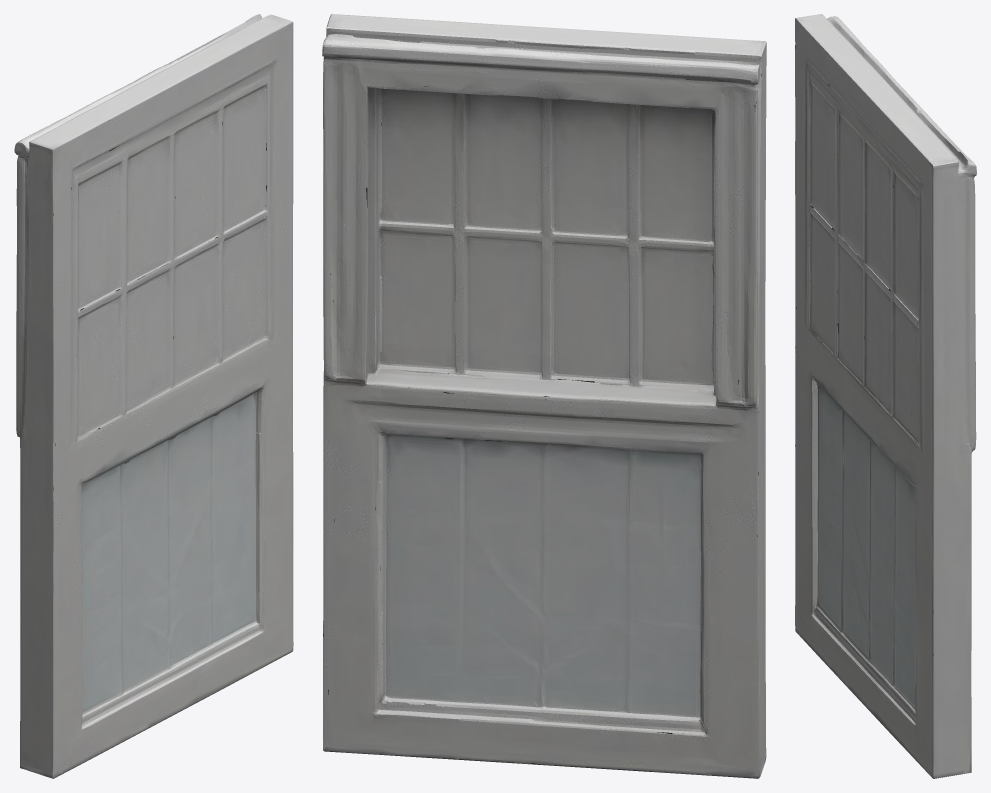
File: window_on_left_000.glb
3 views of the same model, side by side, from view 1: azimuth 30°, elevation 25°; view 2: azimuth 150°, elevation 25°; view 3: azimuth 270°, elevation 25° (orthographic). The views are drawn at different scales.
Parts seen in each view (by area): view 1: phase2_final_window_on_left_000.obj; view 2: phase2_final_window_on_left_000.obj; view 3: phase2_final_window_on_left_000.obj.
Part boxes in pixels (x1,y1,x2,y2): phase2_final_window_on_left_000.obj: [14, 14, 293, 778]; phase2_final_window_on_left_000.obj: [322, 14, 766, 778]; phase2_final_window_on_left_000.obj: [795, 14, 976, 778].
Size of the model in its own units: 0.4533 by 0.8352 by 0.2244.
1 material, 1 textured.
